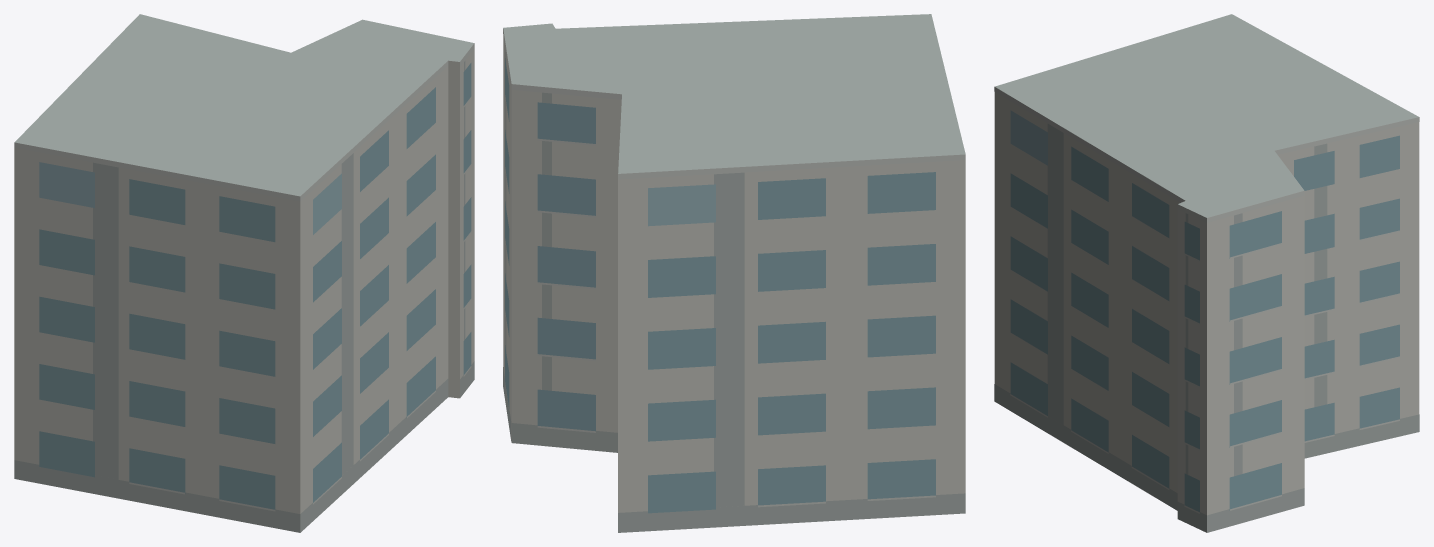
Rendered from survey-upis-33002557.glb.
The picture shows the model from 3 angles, left to right: view 1: azimuth 30°, elevation 25°; view 2: azimuth 150°, elevation 25°; view 3: azimuth 270°, elevation 25°; orthographic projection. The views are drawn at different scales.
Parts seen in each view (by area): view 1: survey-upis-33002557.tmp; view 2: survey-upis-33002557.tmp; view 3: survey-upis-33002557.tmp.
Part boxes in pixels (left/top/right/bottom): survey-upis-33002557.tmp: left=14, top=14, right=474, bottom=532; survey-upis-33002557.tmp: left=503, top=14, right=965, bottom=532; survey-upis-33002557.tmp: left=994, top=14, right=1419, bottom=532.
Size of the model in its own units: 21.2 by 15.25 by 18.66.
